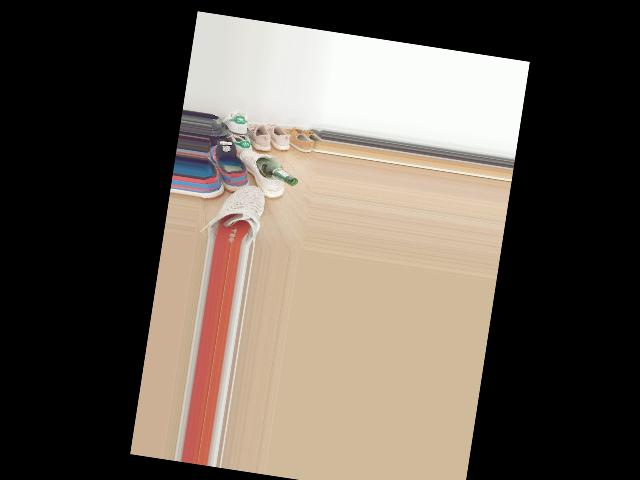beer: (253, 156, 300, 186)
